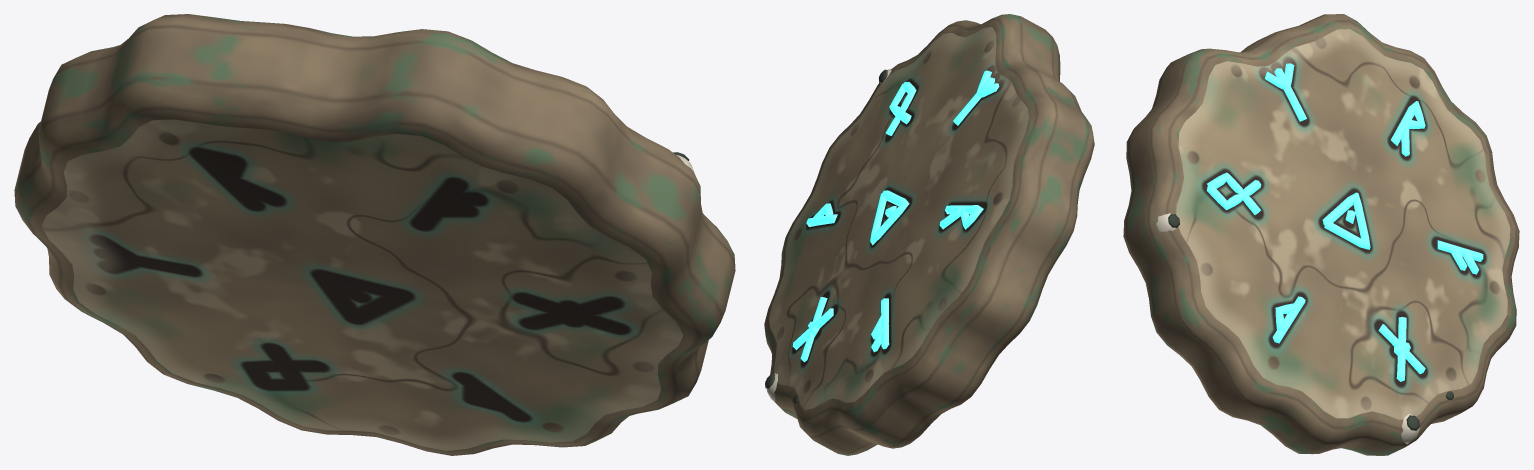
The model's file is RuneCookie.glb.
3 renders of one model, left to right at view 1: azimuth 30°, elevation 25°; view 2: azimuth 150°, elevation 25°; view 3: azimuth 270°, elevation 25°, orthographic. The views are drawn at different scales.
Visible parts, largest first — view 1: RuneCookie; view 2: RuneCookie, RuneCookie_Glow; view 3: RuneCookie, RuneCookie_Glow.
Boxes of the visible parts, x1,y1,x2,y2 form: RuneCookie: [14, 14, 735, 455]; RuneCookie: [764, 14, 1094, 455]; RuneCookie_Glow: [792, 70, 999, 362]; RuneCookie: [1123, 14, 1519, 455]; RuneCookie_Glow: [1206, 63, 1483, 381].
Bounding box in the file's own units: 1.34 × 1.31 × 1.32.
2 materials, 1 textured.
